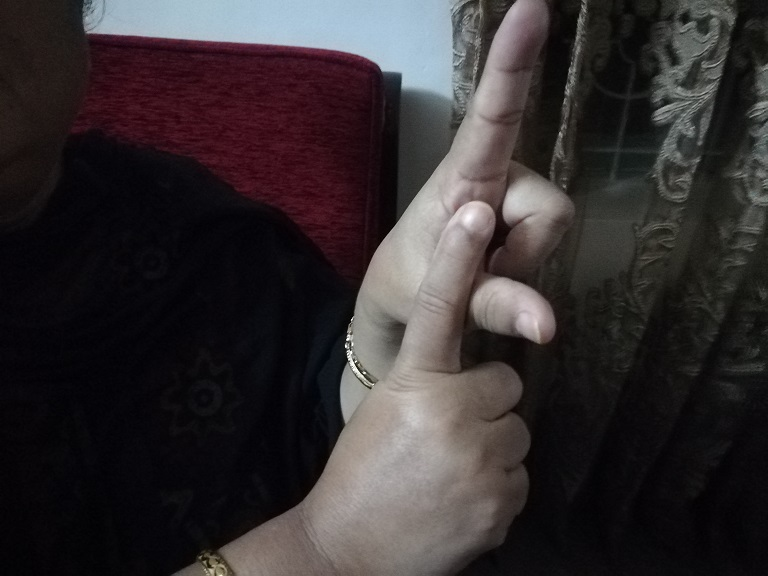dh: (392, 3, 567, 541)
